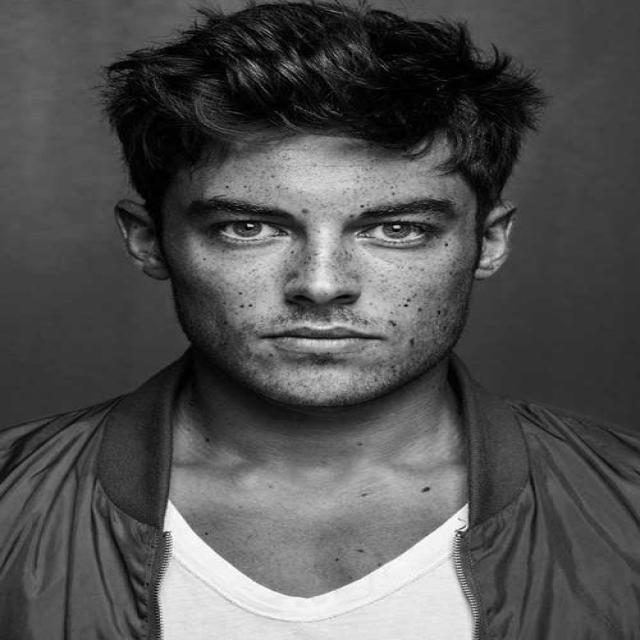front: (184, 176, 466, 376)
